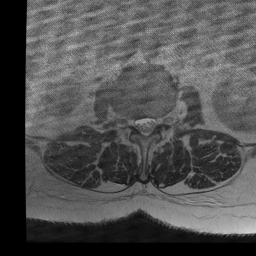CCS_normal: (142, 110, 149, 142)
LFS_normal: (156, 109, 165, 133)
LLS_normal: (149, 110, 156, 137)
RFS_normal: (125, 109, 133, 135)
RLS_normal: (134, 111, 141, 138)
